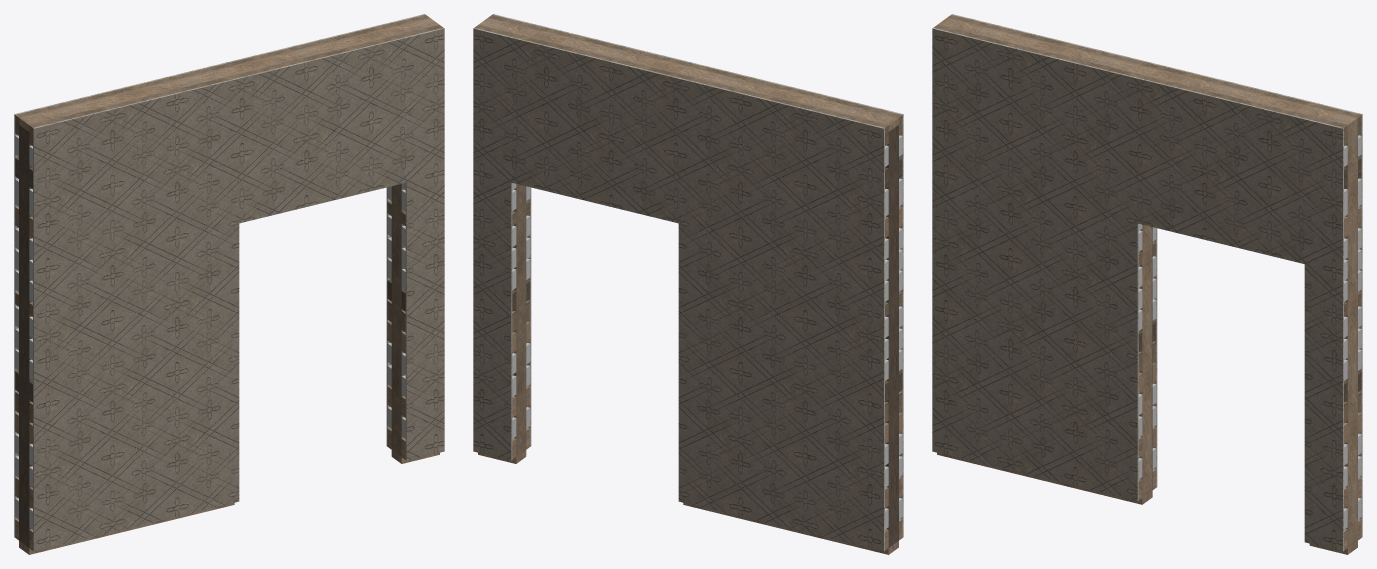
Rendered from WallPeiceDoorwayE.fbx.
The picture shows the model from 3 angles, left to right: view 1: azimuth 30°, elevation 25°; view 2: azimuth 150°, elevation 25°; view 3: azimuth 330°, elevation 25°; orthographic projection.
Visible parts, largest first — view 1: WallPeiceDoorwayE; view 2: WallPeiceDoorwayE; view 3: WallPeiceDoorwayE.
Part boxes in pixels (box(x1,y1,x2,y2)): WallPeiceDoorwayE: box(14, 14, 444, 554); WallPeiceDoorwayE: box(473, 14, 903, 554); WallPeiceDoorwayE: box(932, 14, 1362, 554).
Bounding box in the file's own units: 374 × 374 × 31.37.
